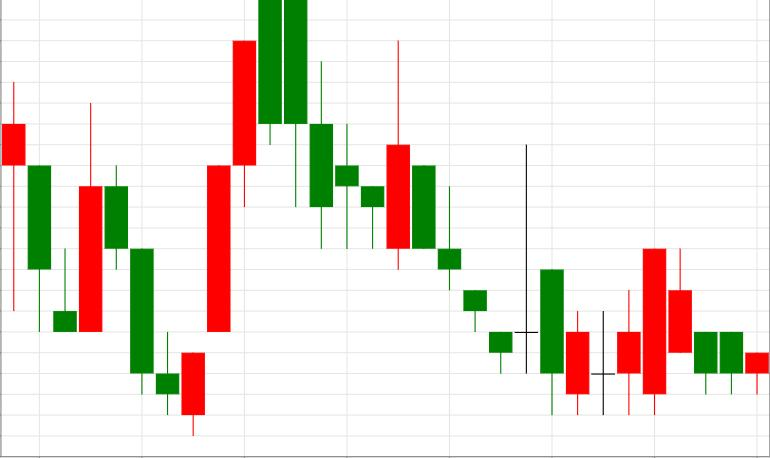bullish_engulfing_rise: (259, 0, 409, 270), (0, 82, 102, 331)
three_white_soldiers_rise: (105, 40, 256, 436)
